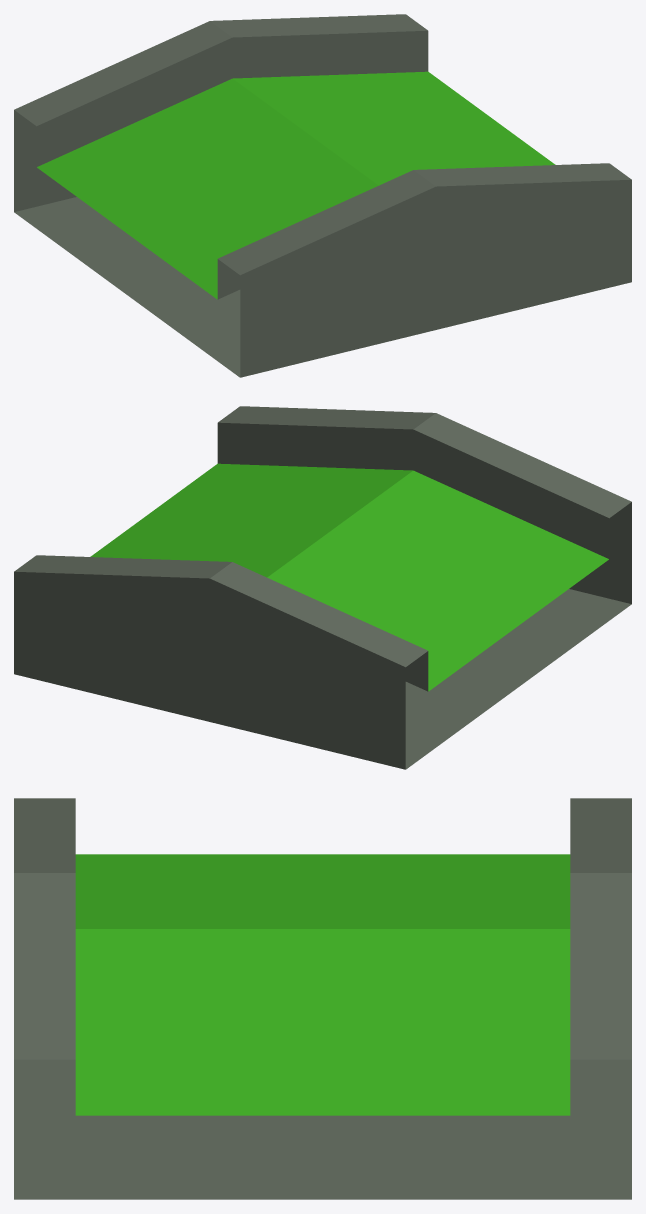
The model's file is StraightHill.fbx.
3 renders of one model, top to bottom at view 1: azimuth 30°, elevation 25°; view 2: azimuth 150°, elevation 25°; view 3: azimuth 270°, elevation 25°, orthographic. The views are drawn at different scales.
Parts seen in each view (by area): view 1: StraightHill; view 2: StraightHill; view 3: StraightHill.
Part boxes in pixels (x1=…): StraightHill: x1=14, y1=14, x2=631, y2=377; StraightHill: x1=14, y1=406, x2=631, y2=769; StraightHill: x1=14, y1=798, x2=631, y2=1199.
Size of the model in its own units: 200 by 70 by 200.
